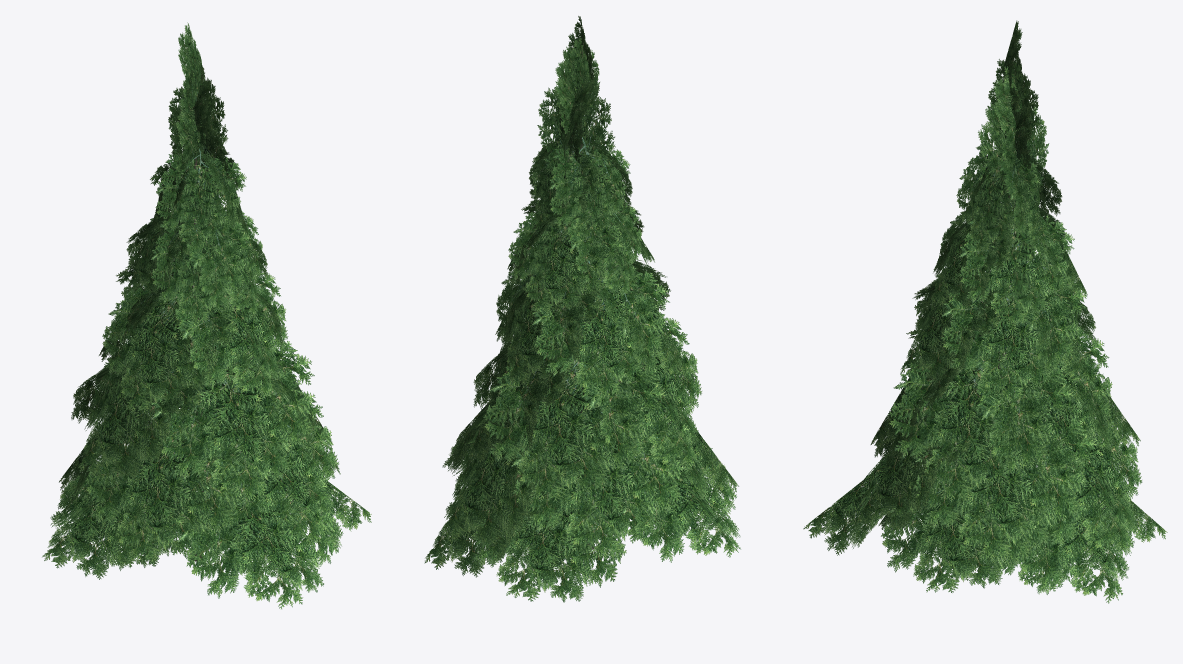
Rendered from tree_j.FBX.
3 views of the same model, side by side, from view 1: azimuth 30°, elevation 25°; view 2: azimuth 150°, elevation 25°; view 3: azimuth 270°, elevation 25° (orthographic).
Visible parts, largest first — view 1: Tree_j; view 2: Tree_j; view 3: Tree_j.
Boxes of the visible parts, x1,y1,x2,y2 form: Tree_j: (42, 22, 371, 609); Tree_j: (424, 16, 740, 602); Tree_j: (803, 20, 1167, 603).
Bounding box in the file's own units: 7.14 × 12.23 × 7.17.
Materials: 2 (2 with a texture image).
